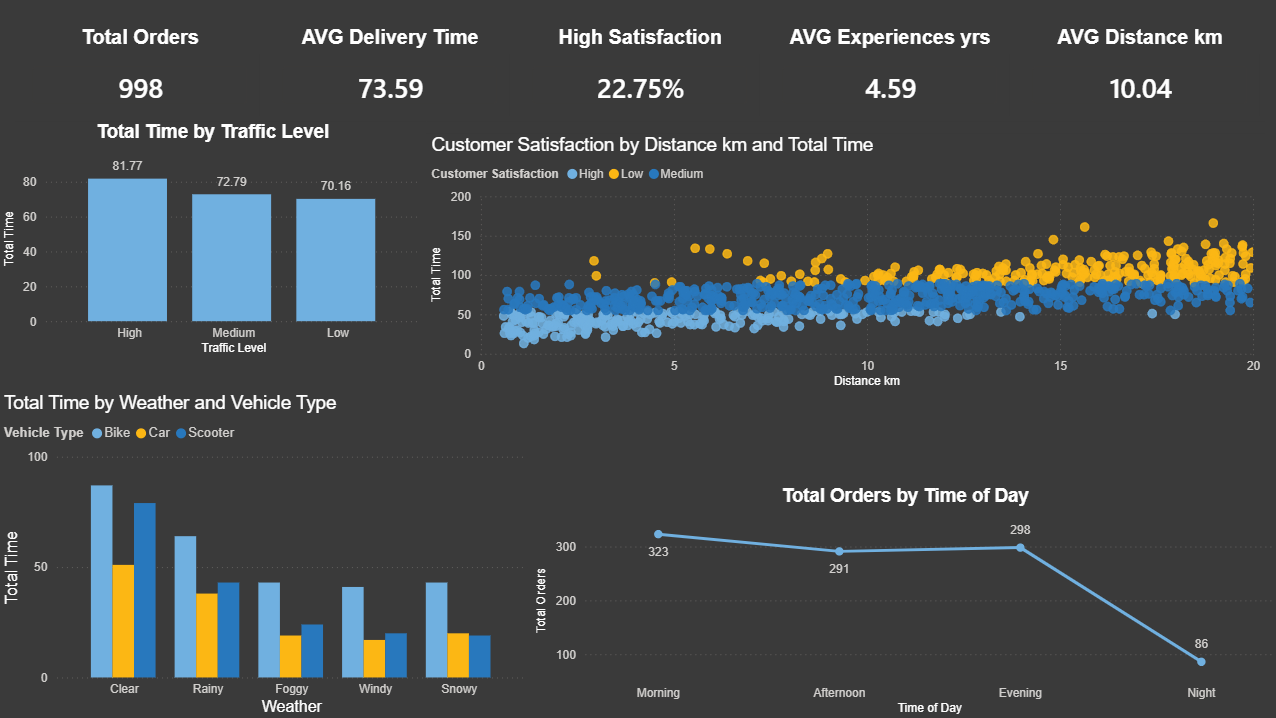

Layout of this report page (visuals, bound fields, positions):
{"tool":"powerbi","page":{"name":"Executive Overview","canvas":[1280,720],"ordinal":0},"visuals":[{"type":"group","id":"g1","title":"Group 1","box":[16,11.6,1249.5,100.2],"z":0},{"type":"cardVisual","title":"Total Orders","fields":{"Data":["CountNonNull(Food_Delivery_Cleaned.Order_ID)"]},"box":[16,11.6,249.9,100.2],"z":0,"group":"g1"},{"type":"cardVisual","title":"AVG Delivery Time","fields":{"Data":["Avg(Food_Delivery_Cleaned.Total_Time)"]},"box":[265.9,11.6,249.9,100.2],"z":1000,"group":"g1"},{"type":"lineChart","fields":{"Y":["CountNonNull(Food_Delivery_Cleaned.Order_ID)"],"Category":["Food_Delivery_Cleaned.Time_of_Day"]},"box":[315.8,421.8,935.3,233.8],"z":1000},{"type":"cardVisual","title":"AVG Distance","fields":{"Data":["Avg(Food_Delivery_Cleaned.Distance_km)"]},"box":[1015.6,11.6,249.9,100.2],"z":2000,"group":"g1"},{"type":"columnChart","fields":{"Category":["Food_Delivery_Cleaned.Customer_Satisfaction"],"Y":["CountNonNull(Food_Delivery_Cleaned.Order_ID)"]},"box":[839.8,111.9,440.2,308],"z":2000},{"type":"cardVisual","title":"AVG Experiences","fields":{"Data":["Avg(Food_Delivery_Cleaned.Courier_Experience_yrs)"]},"box":[765.7,11.6,249.9,100.2],"z":3000,"group":"g1"},{"type":"clusteredBarChart","fields":{"Y":["Count(Food_Delivery_Cleaned.Total_Time)"],"Category":["Food_Delivery_Cleaned.Weather"]},"box":[299.3,122,540.5,297.8],"z":3000},{"type":"cardVisual","title":"High Satisfaction %","fields":{"Data":["Food_Delivery_Cleaned.High Satisfaction %"]},"box":[515.8,11.6,249.9,100.2],"z":4000,"group":"g1"},{"type":"columnChart","fields":{"Category":["Food_Delivery_Cleaned.Traffic_Level"],"Y":["Avg(Food_Delivery_Cleaned.Total_Time)"]},"box":[0,122,299.3,598.6],"z":4000},{"type":"slicer","fields":{"Values":["Food_Delivery_Cleaned.Weather"]},"box":[614.7,653.3,300.1,66.3],"z":5000},{"type":"slicer","fields":{"Values":["Food_Delivery_Cleaned.Traffic_Level"]},"box":[315.8,653.3,298.9,66.3],"z":6000}]}

Visuals, with their boxes in screenshot pixels (x1, y1, x2, y2), scaled from the page's 1280x720 canvas onto the 1276x718 screenshot:
"Group 1" group: bbox=[16, 12, 1262, 111]
"Total Orders" cardVisual: bbox=[16, 12, 265, 111]
"AVG Delivery Time" cardVisual: bbox=[265, 12, 514, 111]
lineChart - CountNonNull(Food_Delivery_Cleaned.Order_ID) x Food_Delivery_Cleaned.Time_of_Day: bbox=[315, 421, 1247, 654]
"AVG Distance" cardVisual: bbox=[1012, 12, 1262, 111]
columnChart - Food_Delivery_Cleaned.Customer_Satisfaction x CountNonNull(Food_Delivery_Cleaned.Order_ID): bbox=[837, 112, 1275, 419]
"AVG Experiences" cardVisual: bbox=[763, 12, 1012, 111]
clusteredBarChart - Count(Food_Delivery_Cleaned.Total_Time) x Food_Delivery_Cleaned.Weather: bbox=[298, 122, 837, 419]
"High Satisfaction %" cardVisual: bbox=[514, 12, 763, 111]
columnChart - Food_Delivery_Cleaned.Traffic_Level x Avg(Food_Delivery_Cleaned.Total_Time): bbox=[0, 122, 298, 717]
slicer - Food_Delivery_Cleaned.Weather: bbox=[613, 651, 912, 717]
slicer - Food_Delivery_Cleaned.Traffic_Level: bbox=[315, 651, 613, 717]
